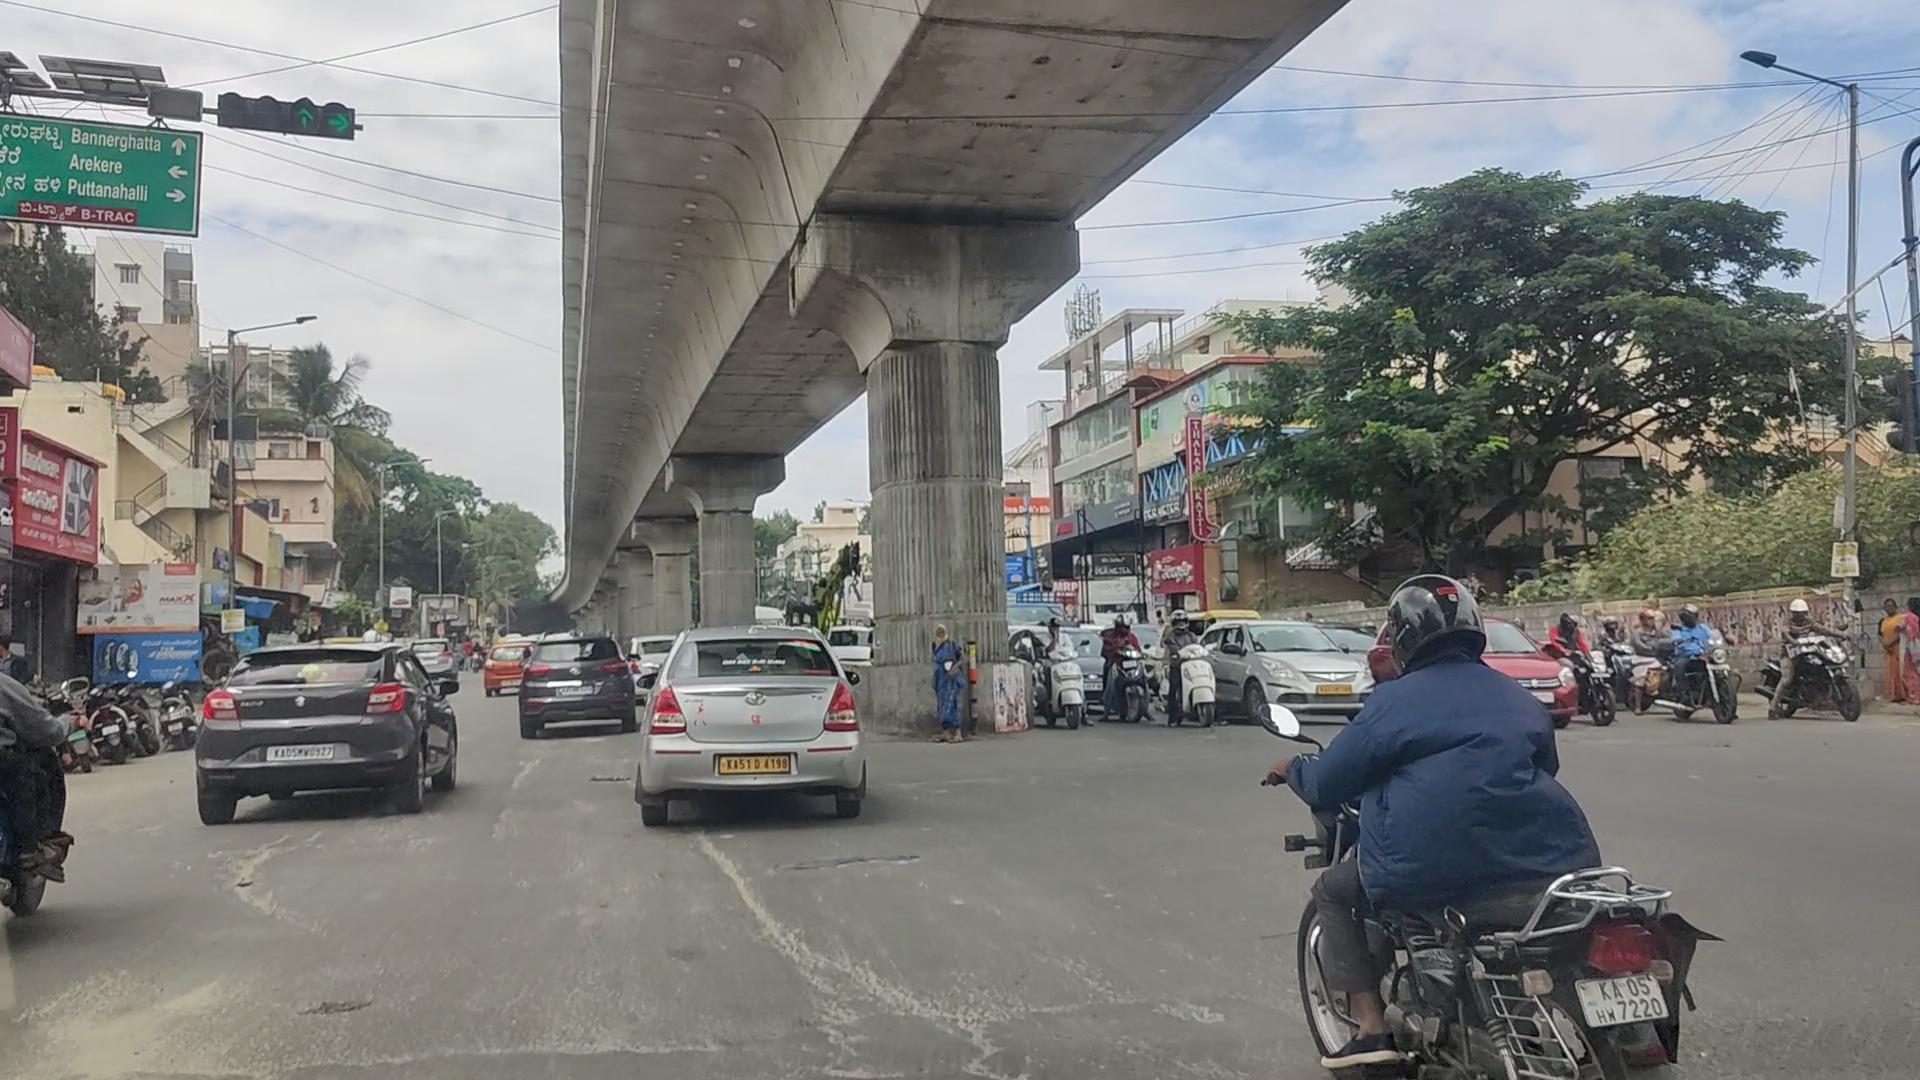LMV: (1323, 538, 1675, 1080), (196, 613, 475, 811), (644, 620, 874, 837)
RoadDamages: (799, 949, 1052, 1080), (402, 1021, 721, 1073), (791, 836, 919, 899)
